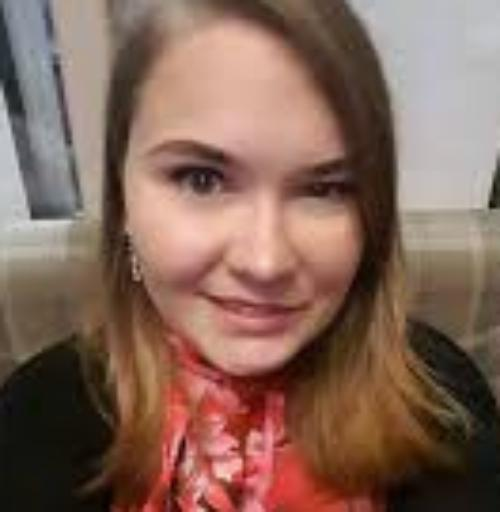left_eye: (291, 179, 359, 206)
left_lip_corner: (292, 297, 318, 320)
right_eye: (154, 163, 233, 199)
right_lip_corner: (195, 289, 227, 311)
